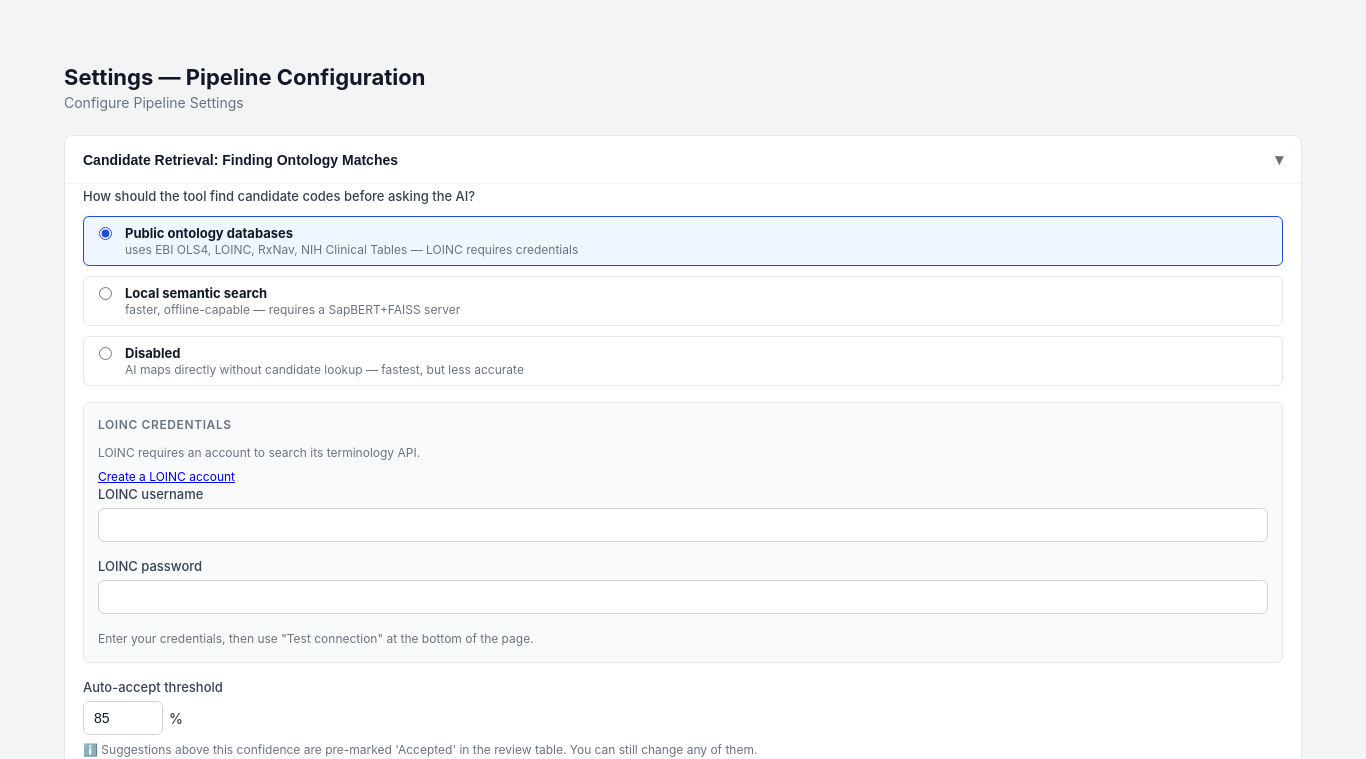
Test: SettingsPage LOINC credentials panel › hides the LOINC credentials panel in local and disabled modes while preserving existing retrieval UI
expect the element labelled "LOINC credentials" is shown: met, box [83,402,1283,663]
Click the radio button labelled "Local semantic search": (106, 294) [99,287,112,300]
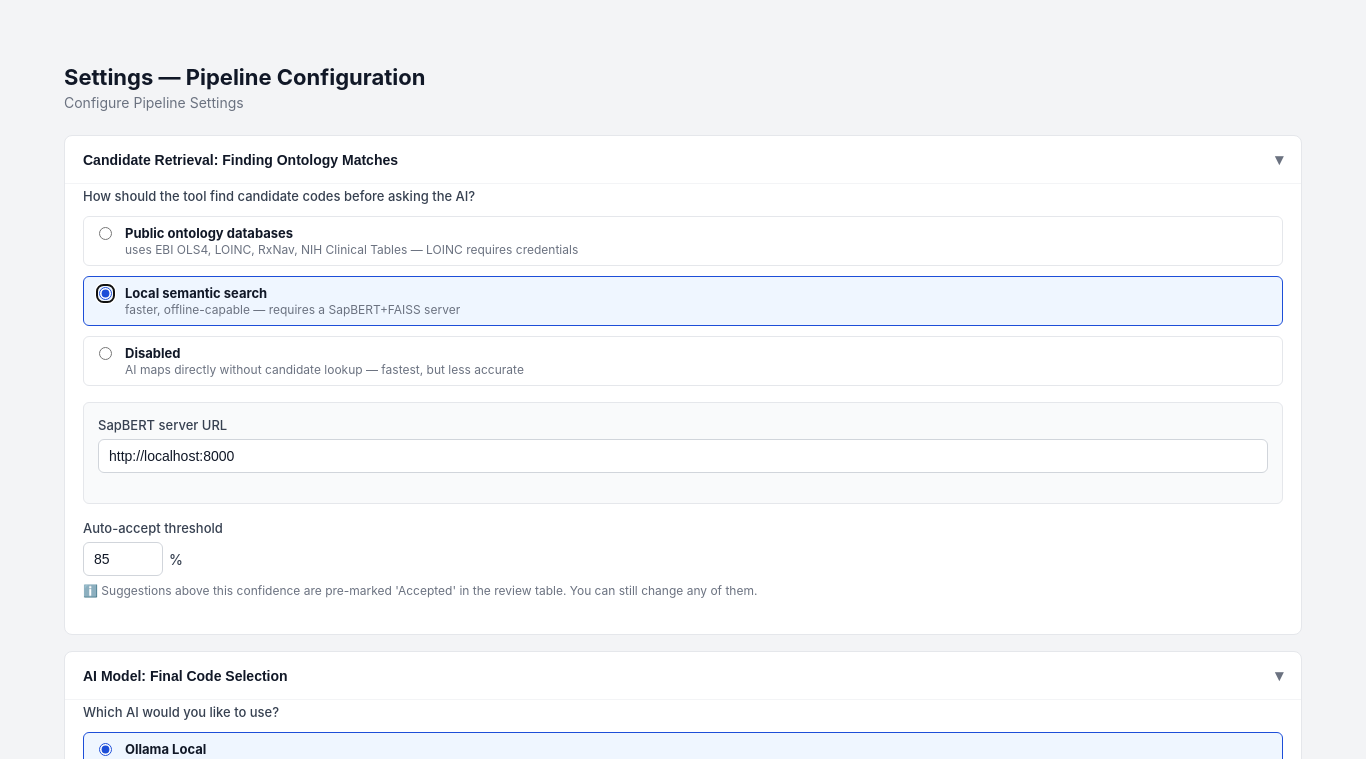
expect the text labelled "LOINC credentials" is gone: met
expect the text "SapBERT server URL" is shown: met, box [98,417,227,433]
expect the field with placeholder "http://localhost:8000" is shown: met, box [98,439,1268,473]
Click the radio button labelled "Disabled": (106, 354) [99,347,112,360]
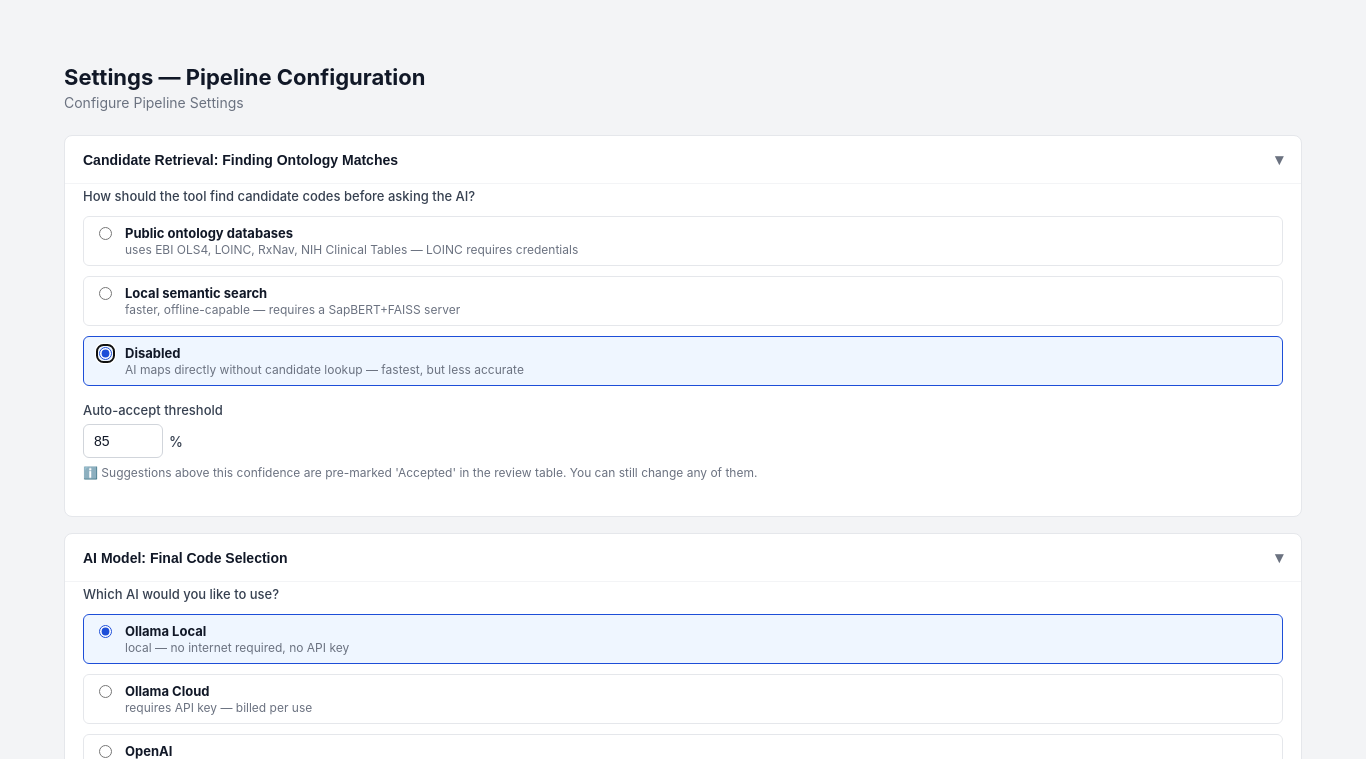
expect the text labelled "LOINC credentials" is not shown: met
expect the text "SapBERT server URL" is gone: met
